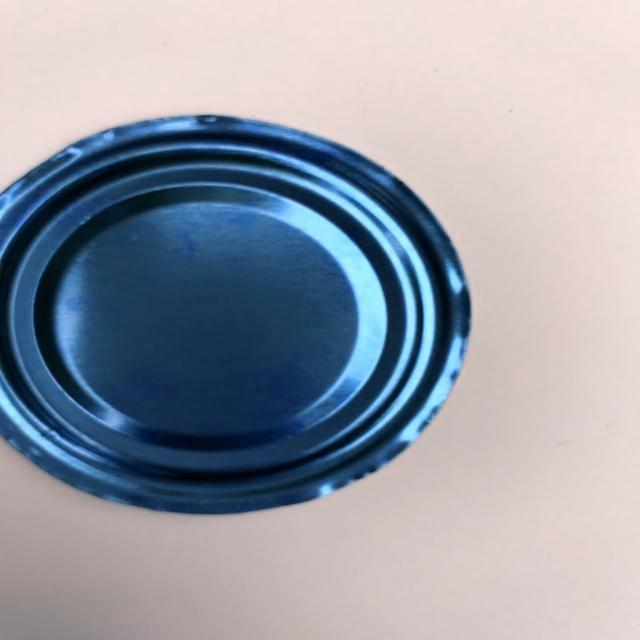metal: (0, 90, 485, 560)
